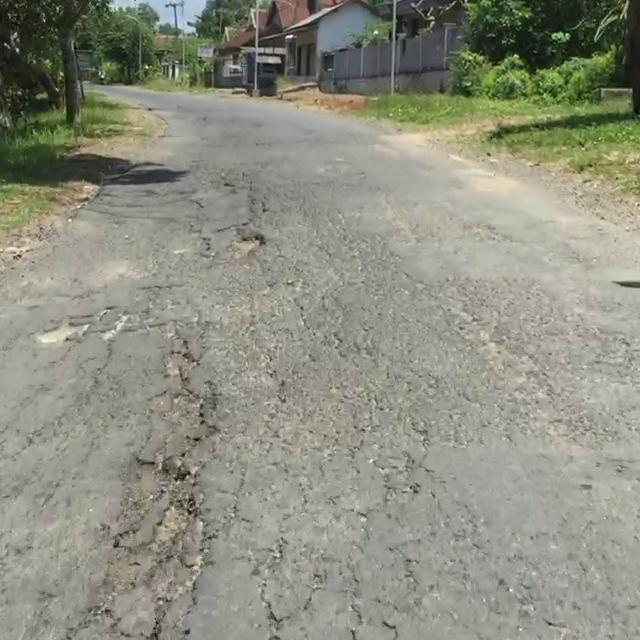retak_memanjang: (107, 335, 268, 640)
